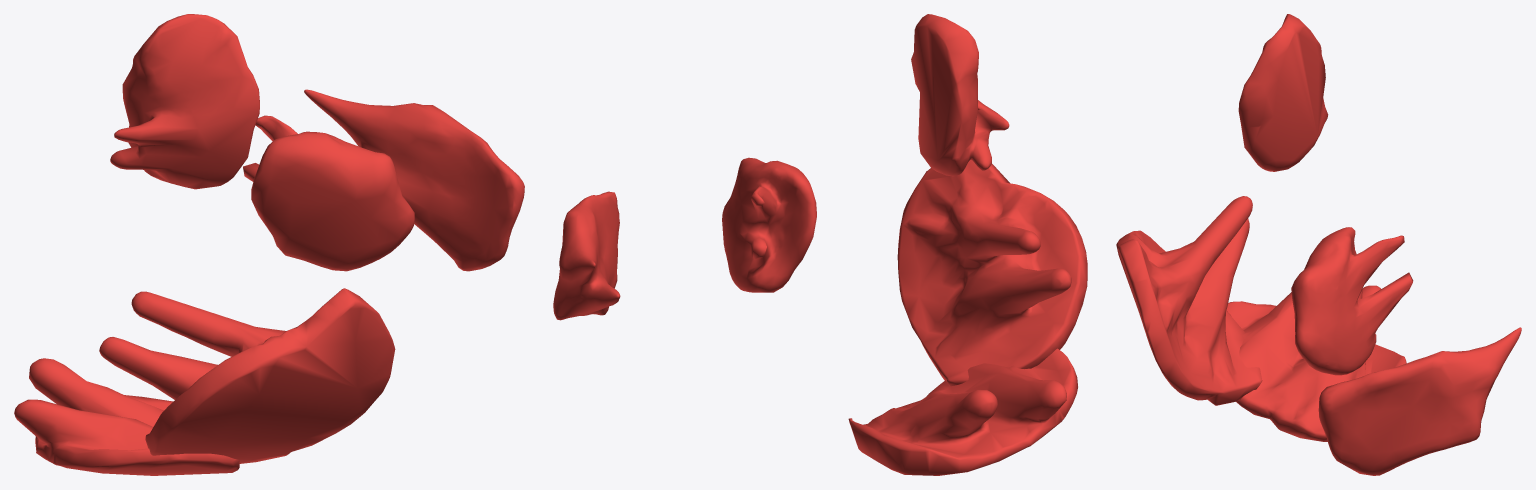
File: papillary_muscles.glb
3 views of the same model, side by side, from view 1: azimuth 30°, elevation 25°; view 2: azimuth 150°, elevation 25°; view 3: azimuth 270°, elevation 25° (orthographic). The views are drawn at different scales.
Visible parts, largest first — view 1: Inferior papillary muscle of left ventricle.002; view 2: Inferior papillary muscle of left ventricle.002; view 3: Inferior papillary muscle of left ventricle.002.
Boxes of the visible parts, x1,y1,x2,y2 form: Inferior papillary muscle of left ventricle.002: [14, 14, 524, 475]; Inferior papillary muscle of left ventricle.002: [553, 14, 1087, 475]; Inferior papillary muscle of left ventricle.002: [1116, 14, 1521, 475].
Bounding box in the file's own units: 2.05 × 1.78 × 1.63.
